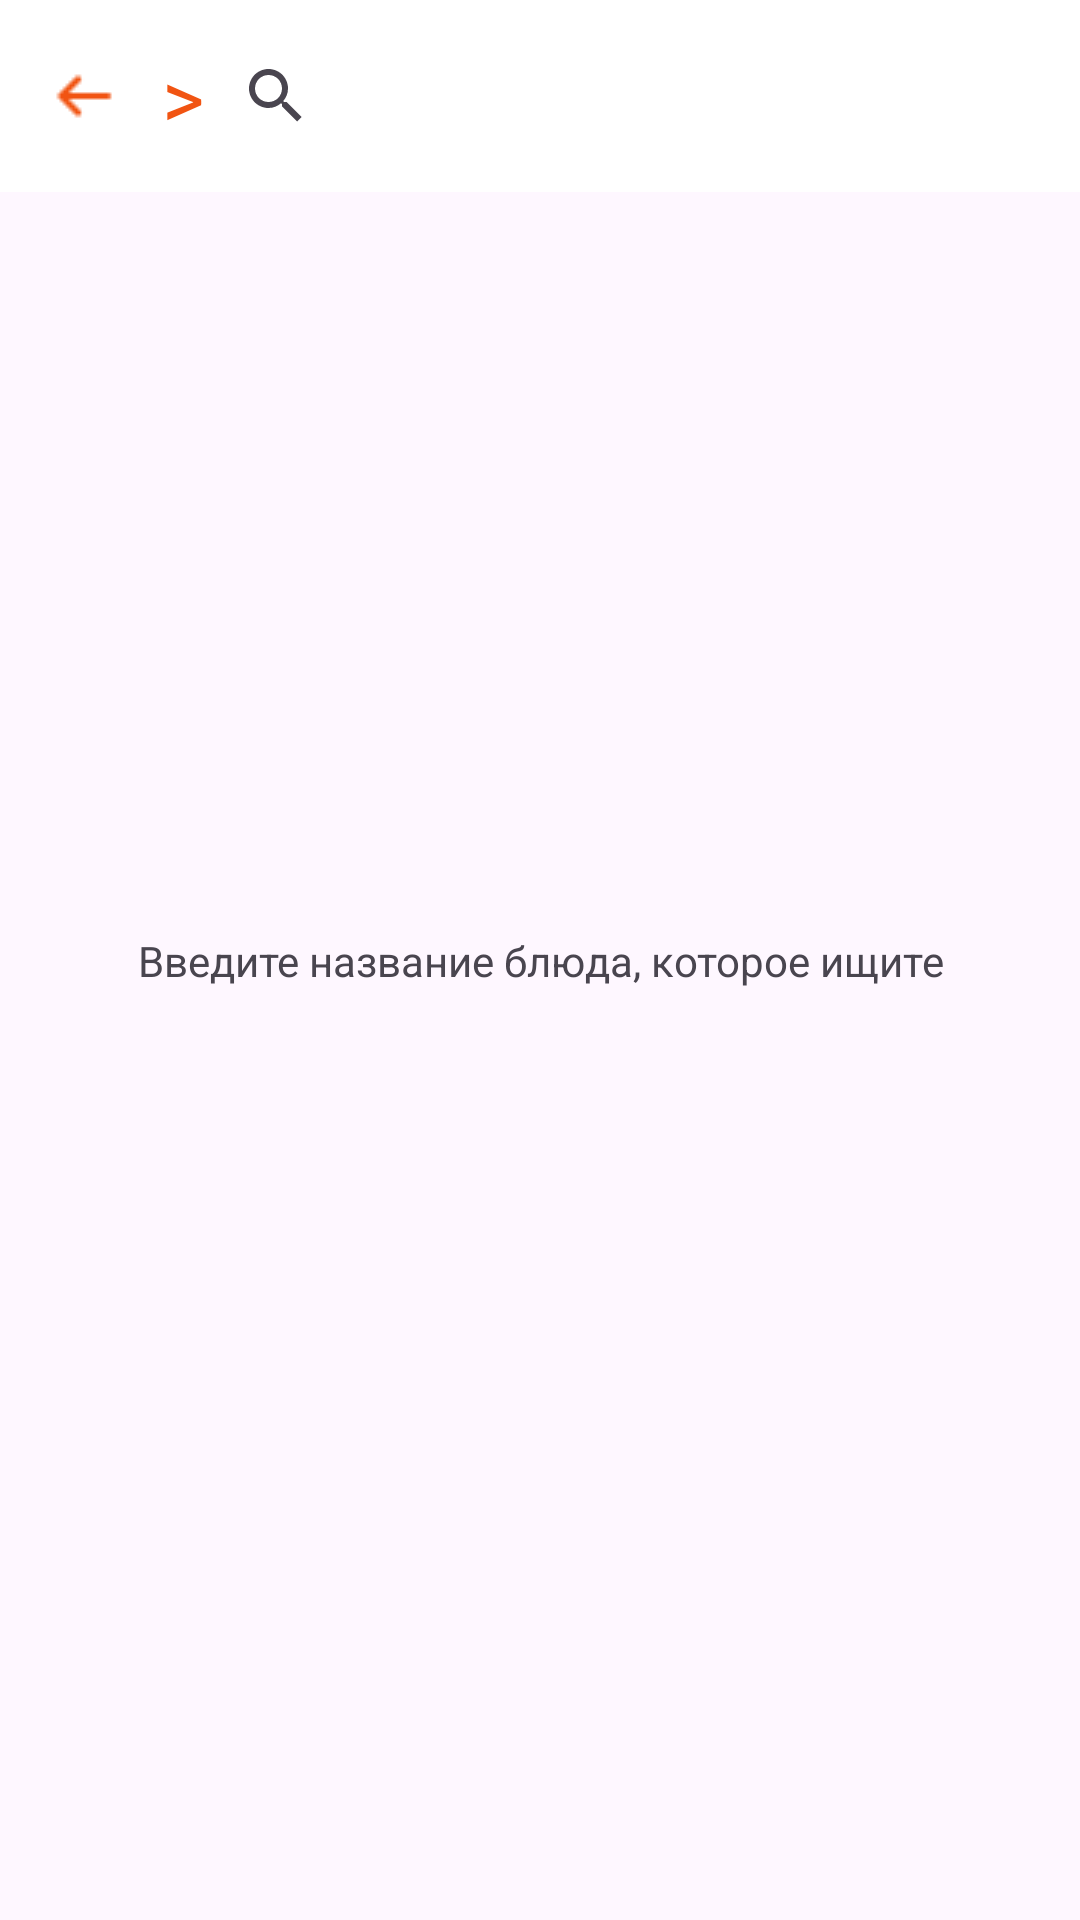

Named icons in this screenshot (1080px×1920px) and their centers, [x,y]:
arrow: [84,96]
